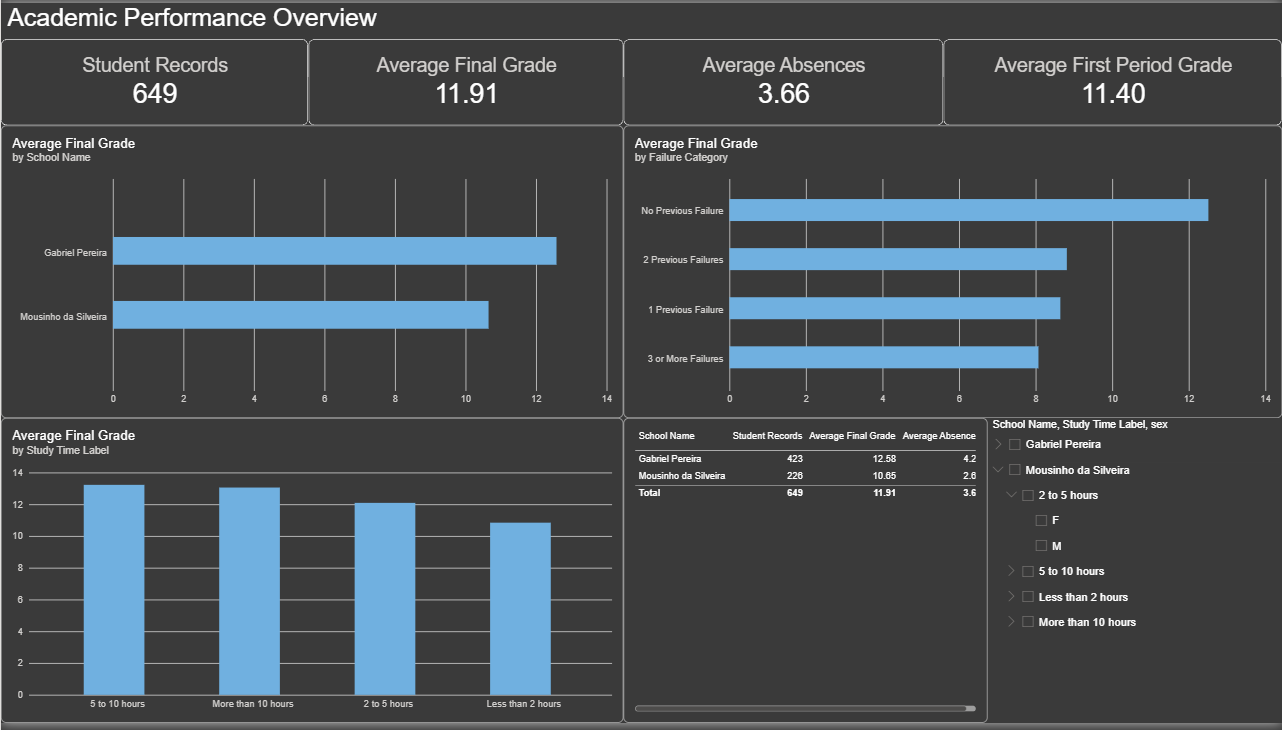

The dashboard page shown, as its layout file describes it:
{"tool":"powerbi","page":{"name":"Academic School Overview","canvas":[1920,1080],"ordinal":0},"visuals":[{"type":"textbox","box":[9,0,555.7,53.8],"z":0},{"type":"cardVisual","fields":{"Data":["student-por.Student Records"]},"box":[0,54.3,460.9,129.3],"z":1},{"type":"cardVisual","fields":{"Data":["student-por.Average Final Grade"]},"box":[460.9,54.3,472.1,129.3],"z":2},{"type":"cardVisual","fields":{"Data":["student-por.Average Absences"]},"box":[933,54.3,479.6,129.3],"z":3},{"type":"cardVisual","fields":{"Data":["student-por.Average First Period Grade"]},"box":[1412.7,54.3,507.7,129.3],"z":4},{"type":"clusteredBarChart","fields":{"Category":["student-por.School Name"],"Y":["student-por.Average Final Grade"]},"box":[0,183.6,933,438.4],"z":5},{"type":"clusteredColumnChart","fields":{"Category":["student-por.Study Time Label"],"Y":["student-por.Average Final Grade"]},"box":[0,622,933,457.1],"z":6},{"type":"clusteredBarChart","fields":{"Category":["student-por.Failure Category"],"Y":["student-por.Average Final Grade"]},"box":[933,183.6,987.4,438.4],"z":7},{"type":"tableEx","fields":{"Values":["student-por.School Name","student-por.Student Records","student-por.Average Final Grade","student-por.Average Absences"]},"box":[933,622,545.2,457.1],"z":8},{"type":"slicer","fields":{"Values":["student-por.School Name","student-por.Study Time Label","student-por.sex"]},"box":[1478,622,442,457],"z":9}]}

Visuals, with their boxes in screenshot pixels (x1, y1, x2, y2), scaled from the page's 1920x1080 canvas onto the 1282x730 screenshot:
textbox: region(6, 0, 377, 36)
cardVisual - student-por.Student Records: region(0, 37, 308, 124)
cardVisual - student-por.Average Final Grade: region(308, 37, 623, 124)
cardVisual - student-por.Average Absences: region(623, 37, 943, 124)
cardVisual - student-por.Average First Period Grade: region(943, 37, 1281, 124)
clusteredBarChart - student-por.School Name x student-por.Average Final Grade: region(0, 124, 623, 420)
clusteredColumnChart - student-por.Study Time Label x student-por.Average Final Grade: region(0, 420, 623, 729)
clusteredBarChart - student-por.Failure Category x student-por.Average Final Grade: region(623, 124, 1281, 420)
tableEx - student-por.School Name x student-por.Student Records: region(623, 420, 987, 729)
slicer - student-por.School Name x student-por.Study Time Label: region(987, 420, 1281, 729)
